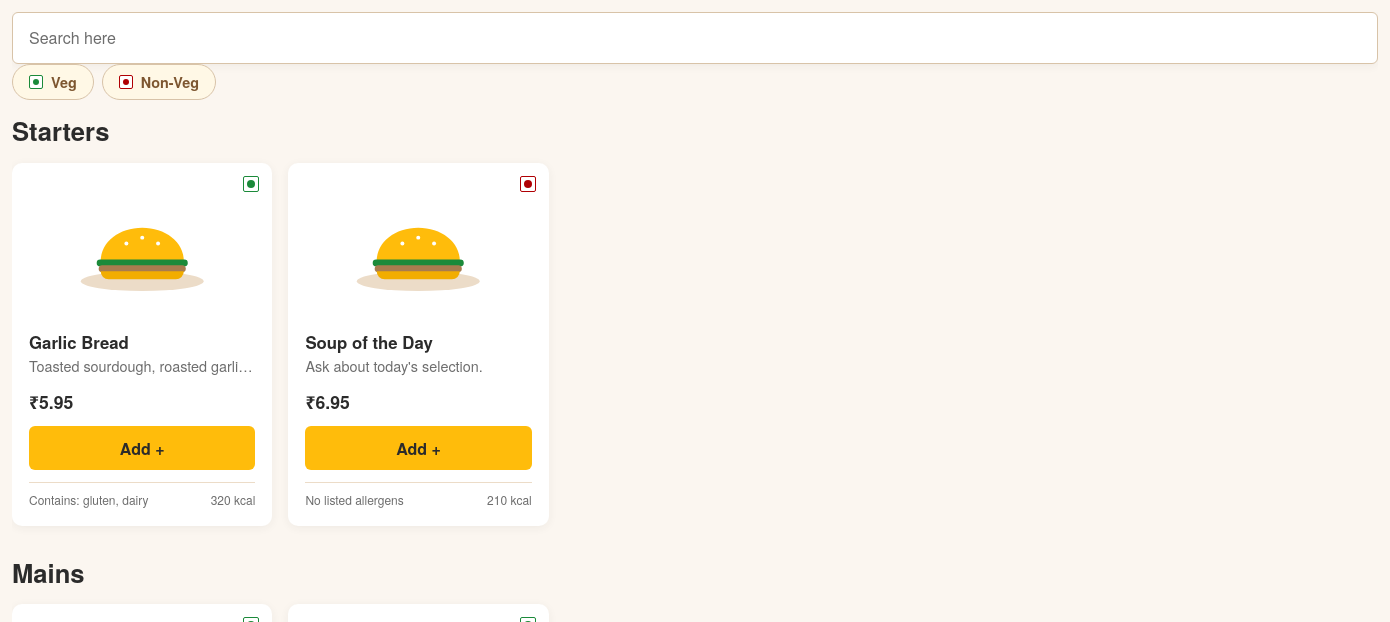
Test: MenuList — AC10 (no-results, distinct from empty-category) › shows "no items match" for a search with no results, distinct from the empty-category message
Step 1. Type "sushi" into the search field named "Search menu" → [695, 38], box [12, 12, 1378, 64]
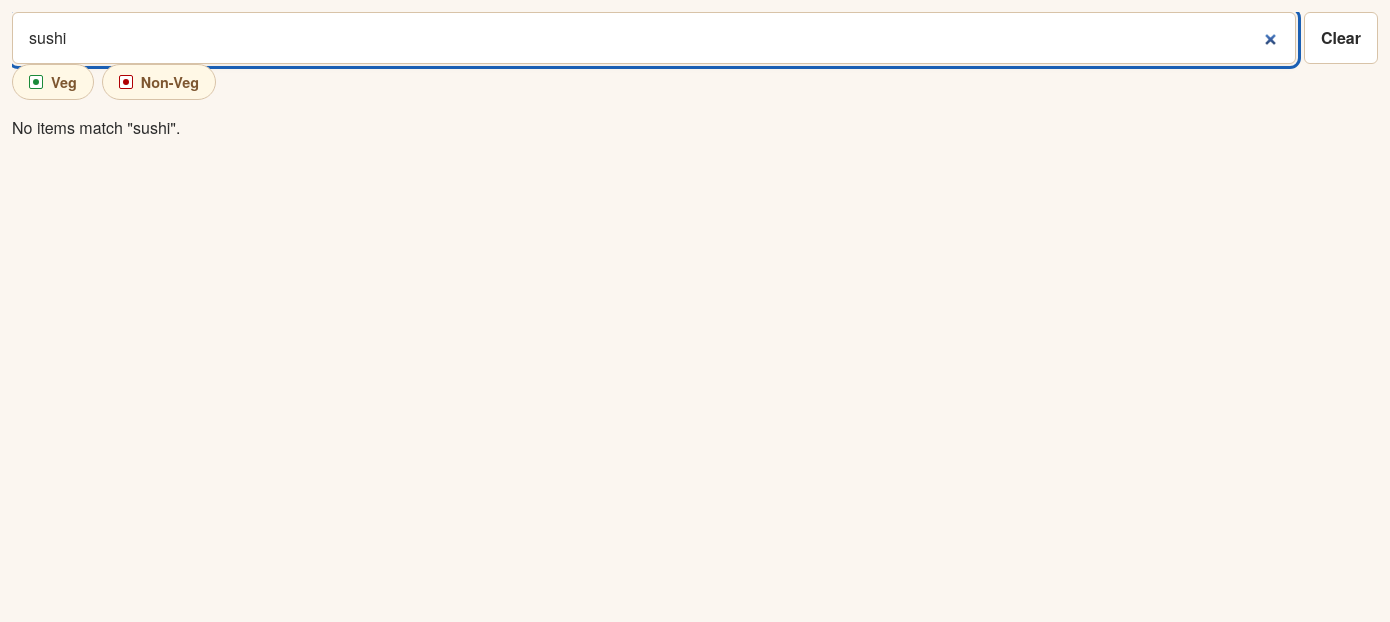
Expected: the message reads "No items match \"sushi\".", [12, 116, 180, 139]
